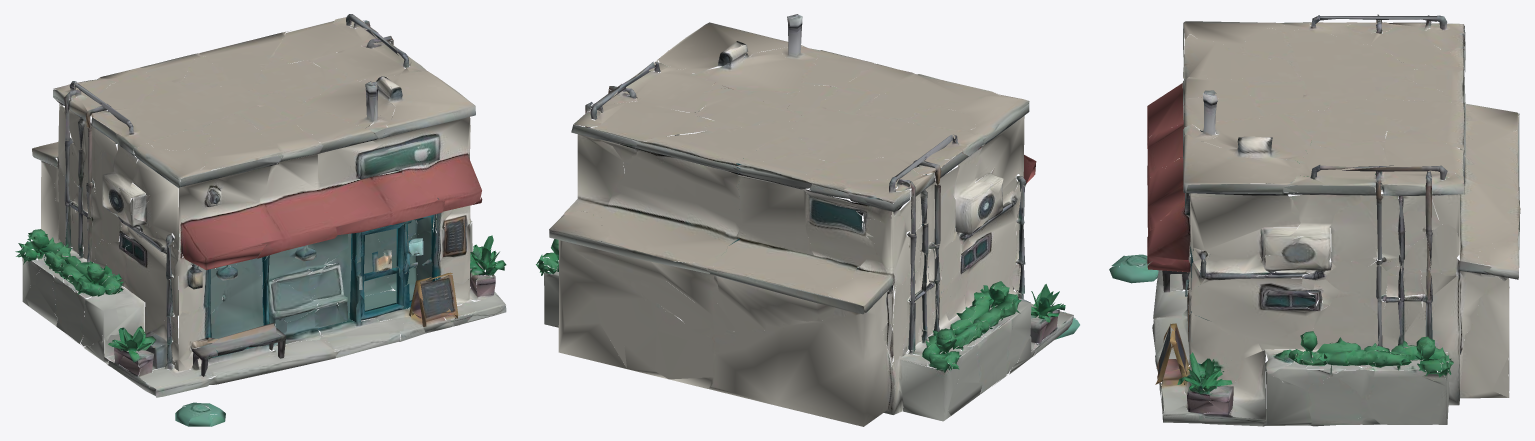
File: building12.glb
The picture shows the model from 3 angles, left to right: view 1: azimuth 30°, elevation 25°; view 2: azimuth 150°, elevation 25°; view 3: azimuth 270°, elevation 25°; orthographic projection. The views are drawn at different scales.
Parts seen in each view (by area): view 1: tripo_node_7d9c8a4e-dcf4-4141-8eef-cf0eca2abd2f; view 2: tripo_node_7d9c8a4e-dcf4-4141-8eef-cf0eca2abd2f; view 3: tripo_node_7d9c8a4e-dcf4-4141-8eef-cf0eca2abd2f.
Boxes of the visible parts, box(x1,y1,x2,y2) form: tripo_node_7d9c8a4e-dcf4-4141-8eef-cf0eca2abd2f: box(15, 14, 506, 426); tripo_node_7d9c8a4e-dcf4-4141-8eef-cf0eca2abd2f: box(536, 14, 1079, 426); tripo_node_7d9c8a4e-dcf4-4141-8eef-cf0eca2abd2f: box(1109, 14, 1520, 426).
Size of the model in its own units: 0.996 by 0.6373 by 0.8163.
Materials: 1 (1 with a texture image).
